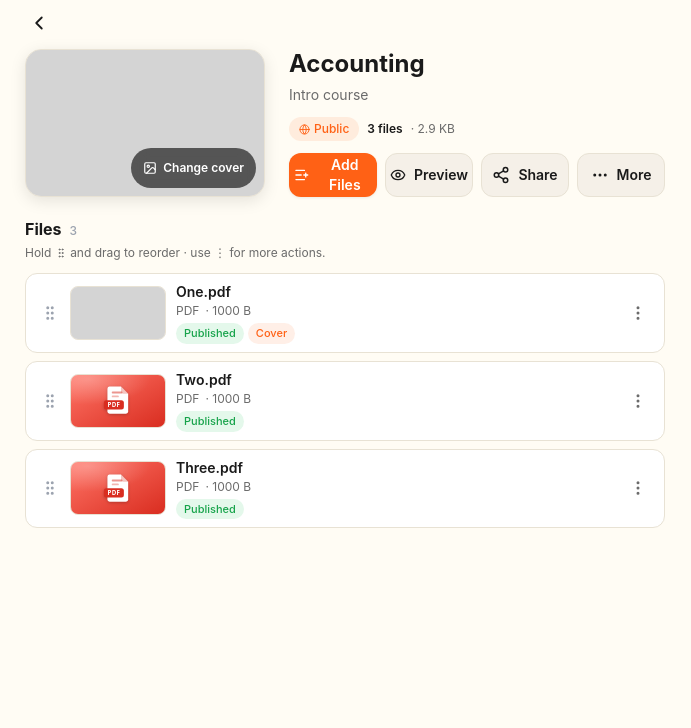
Test case: Creator playlist page — Add Files (existing channel Library workflow) › adds several files at once by id (references only) and returns to the updated list
Click the button with test id "action-add-files".
click(333, 175)  # box [289,153,377,197]
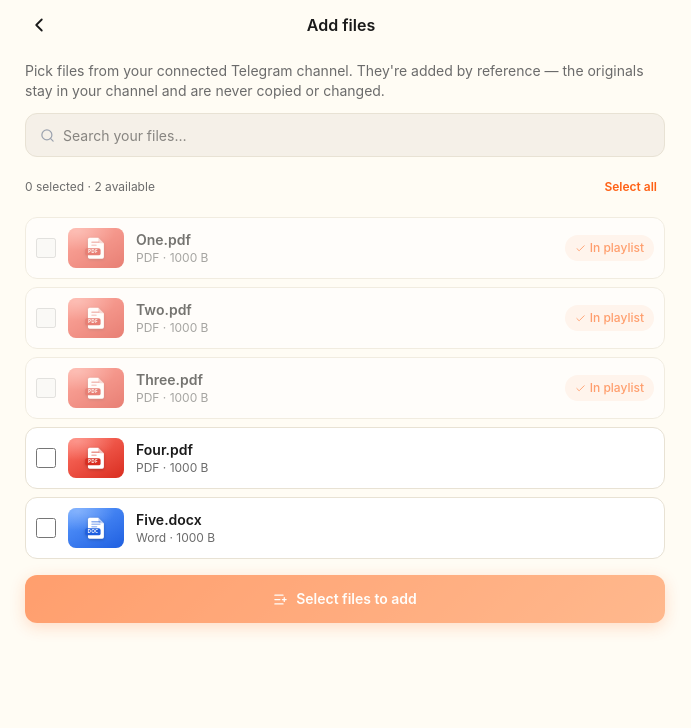
Click the checkbox labelled "PDF Four.pdf PDF · 1000 B".
click(46, 458)  # box [36,448,56,468]
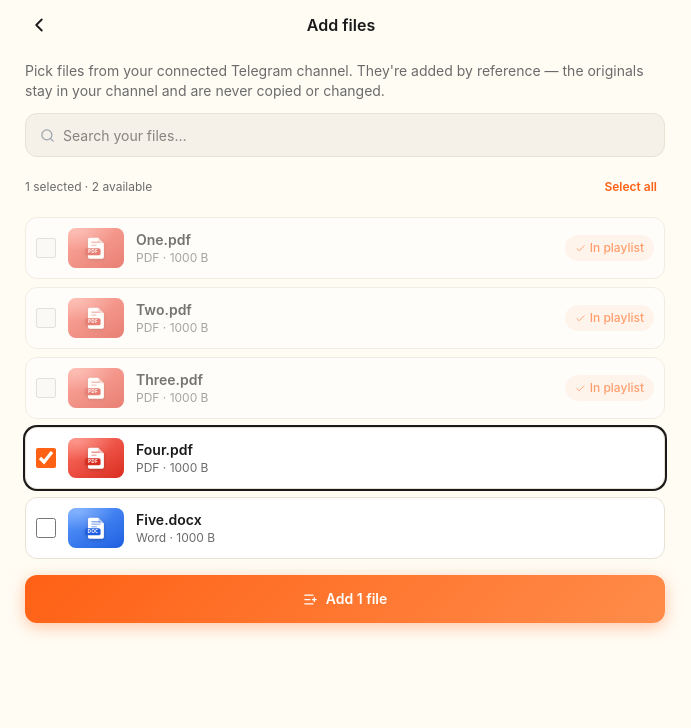
Click the checkbox labelled "DOC Five.docx Word · 1000 B".
click(46, 528)  # box [36,518,56,538]
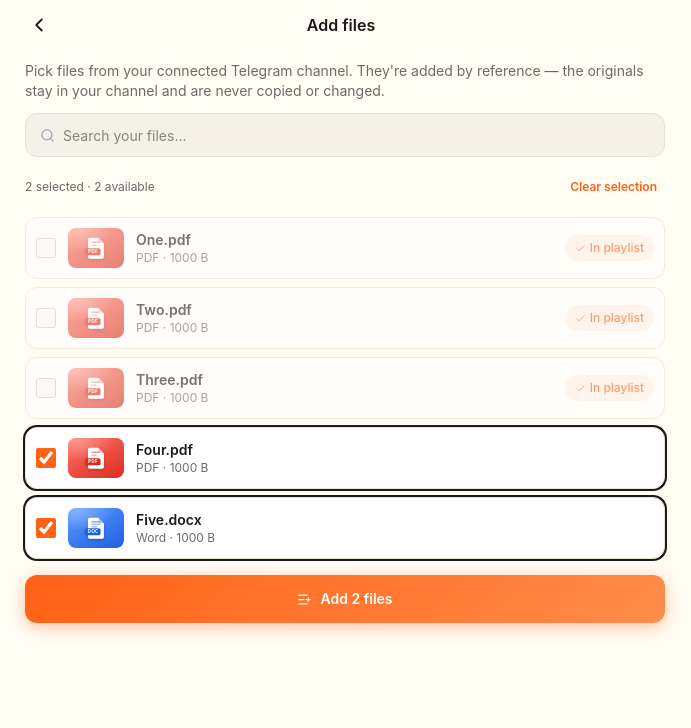
Expected: the button with test id "add-files-submit" reads "Add 2 files"
Click the button with test id "add-files-submit".
click(345, 599)  # box [25,575,665,623]
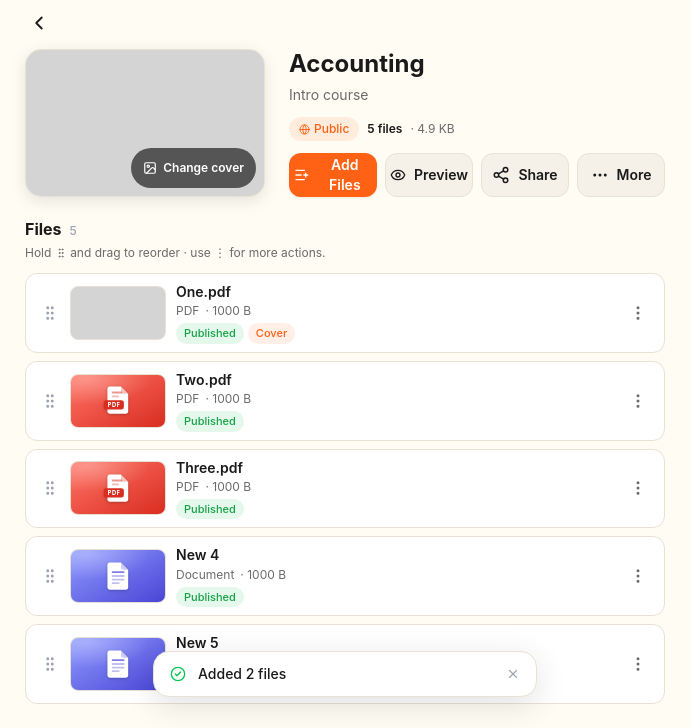
Expected: the heading "Accounting" is shown, [289,49,425,78]
Expected: the text "Added 2 files" is shown, [198,665,286,682]
